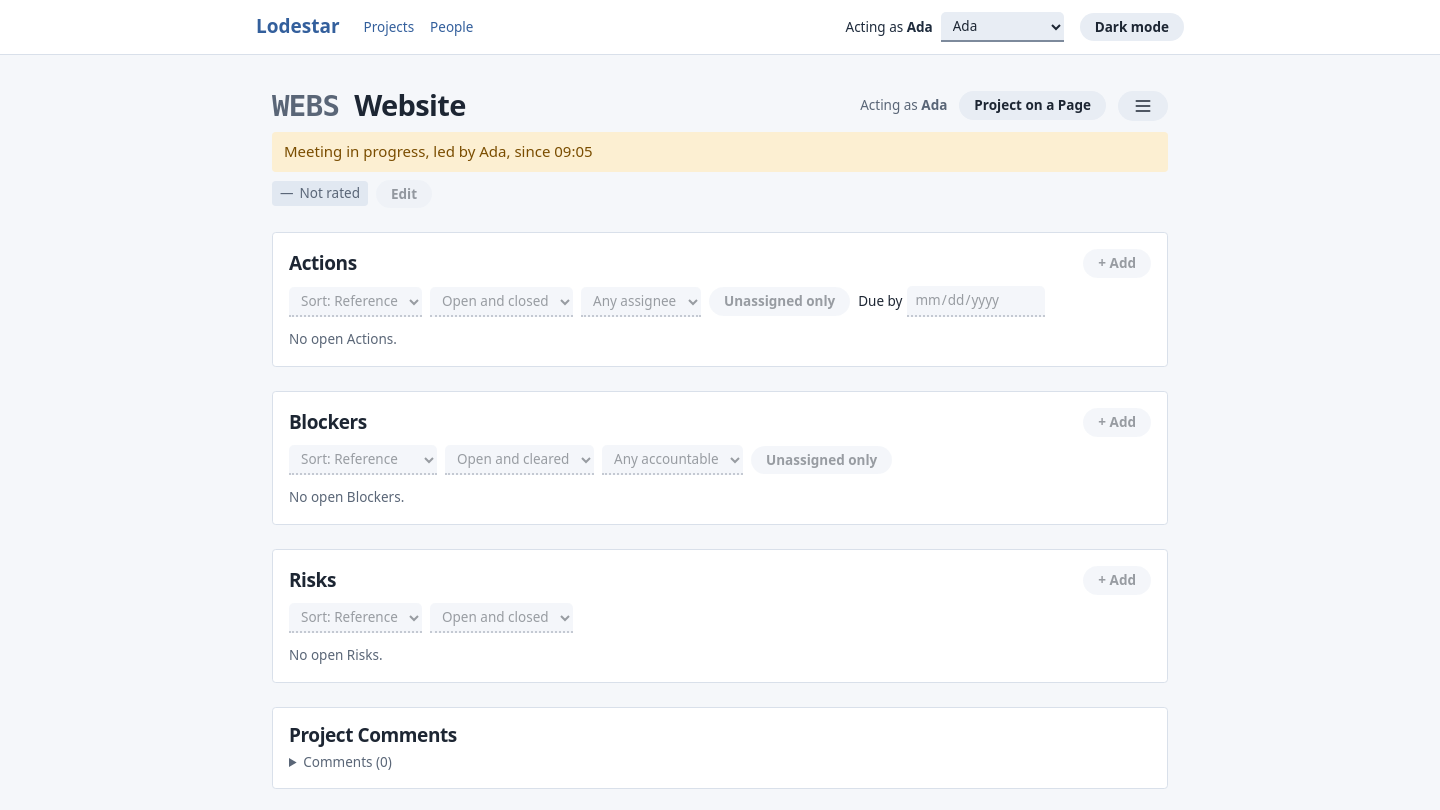
Meetings in the Project menu (#84) › shows everyone who is running another session's live Meeting, and since when
Step 1. Click the button named "Project menu" → (1143, 106), box [1118,91,1168,121]
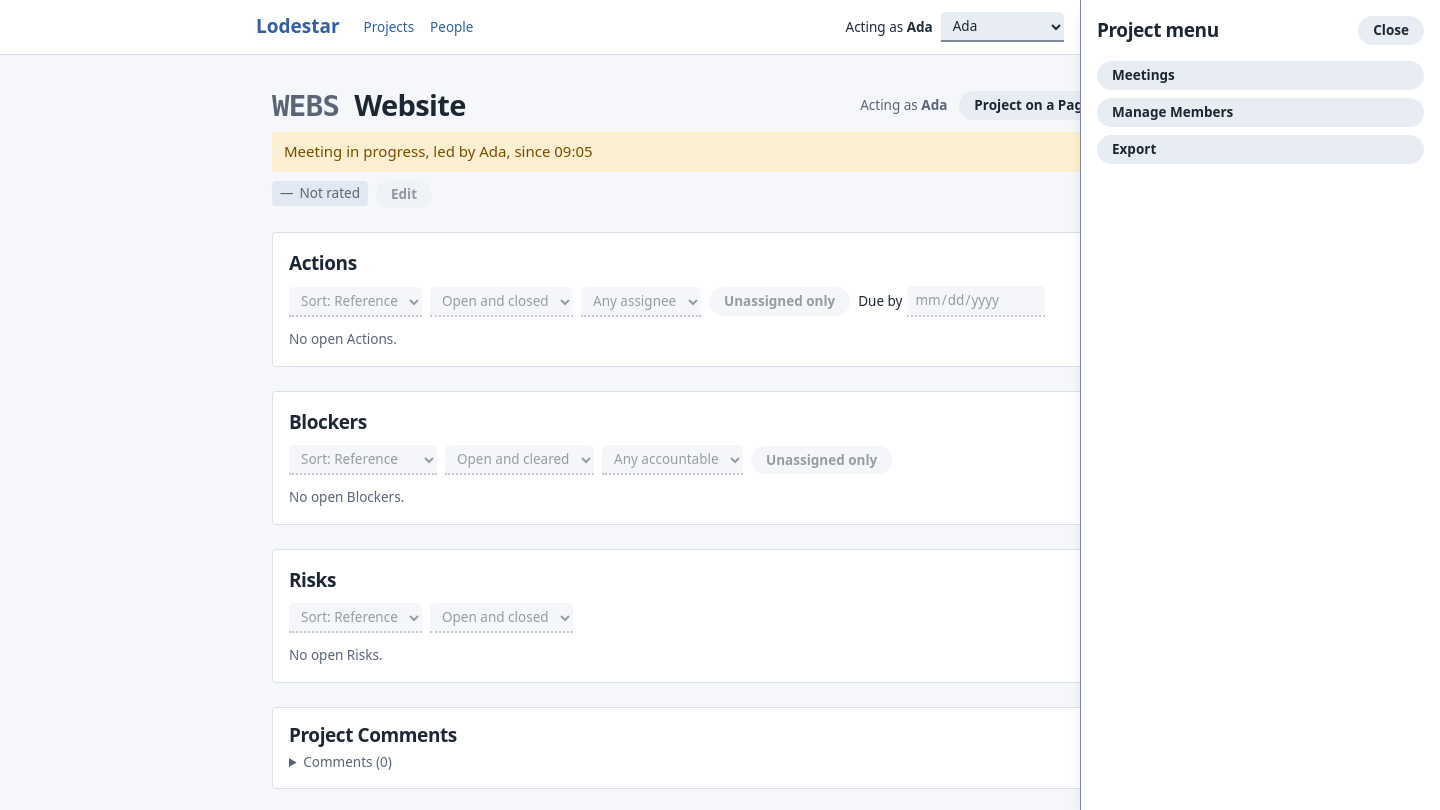
Step 2. Click the button "Meetings" → (1143, 75), box [1097,61,1424,90]
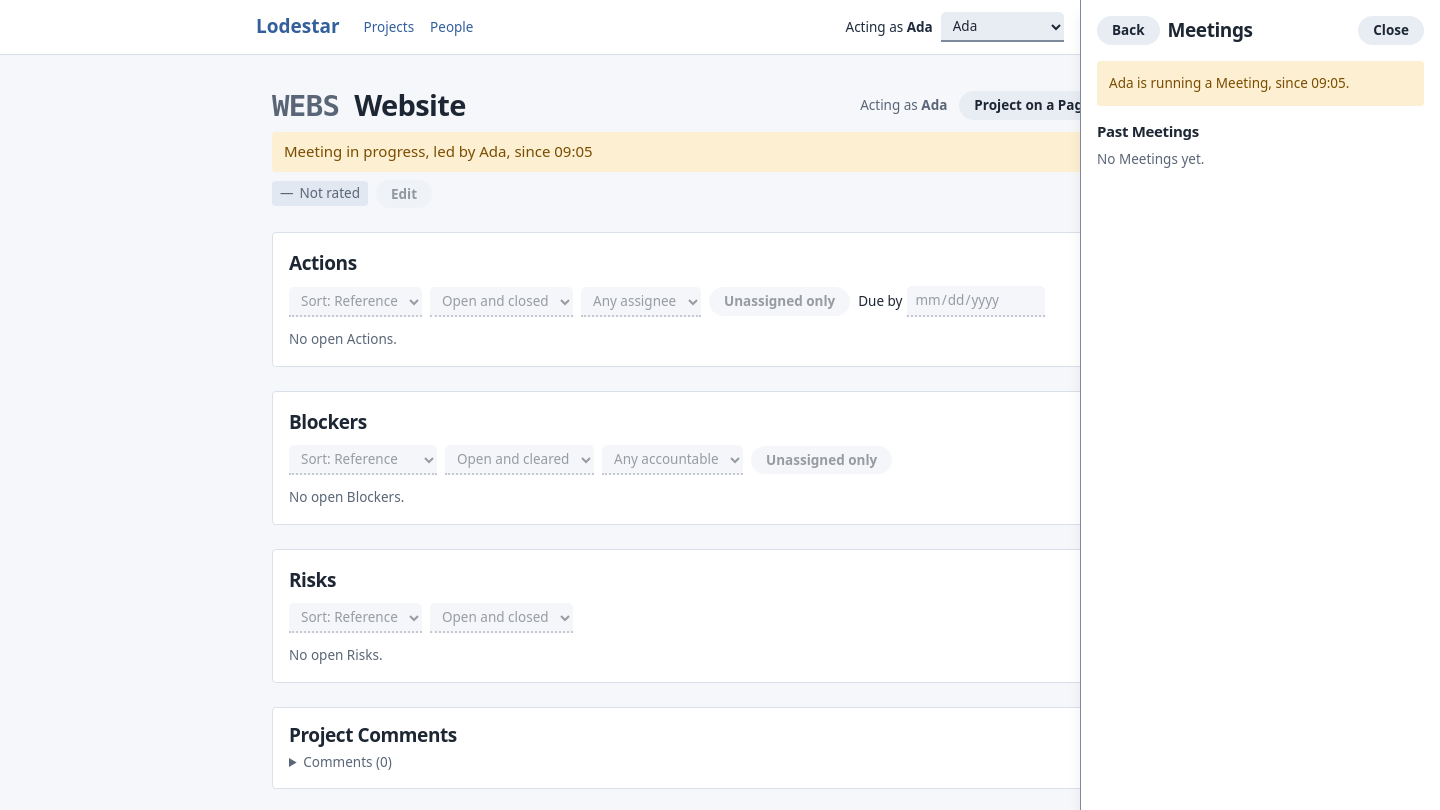
Expected: the text "Ada is running a Meeting, since 09:05." is shown, [1097,61,1424,106]
